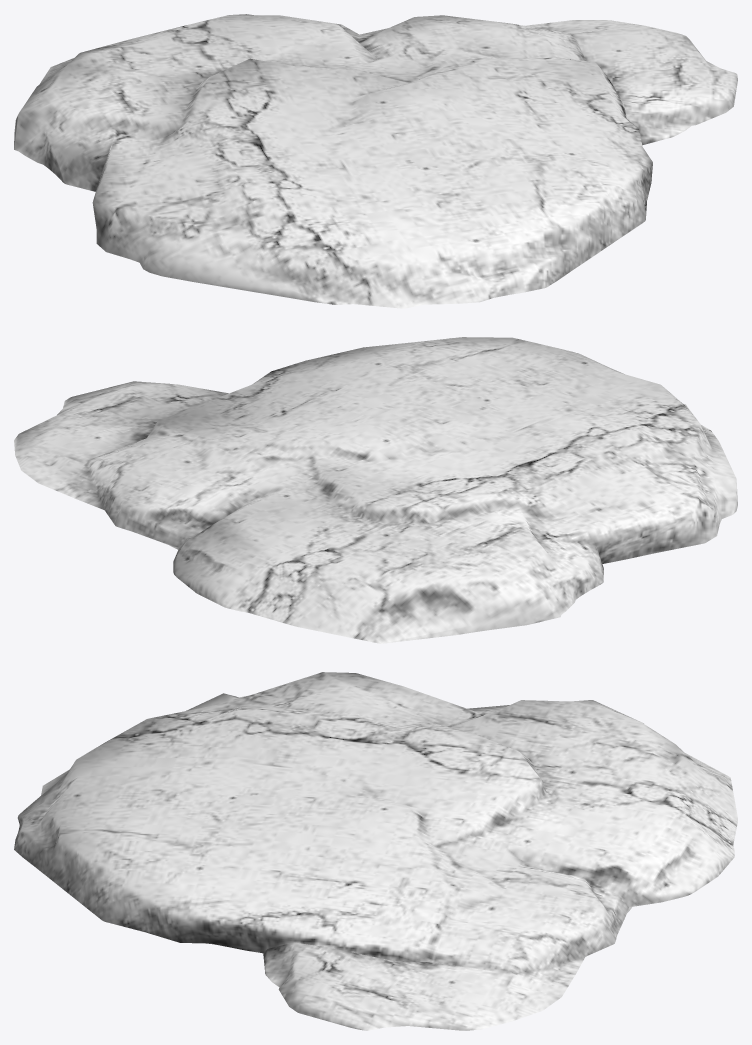
File: shan 1.FBX
3 renders of one model, top to bottom at view 1: azimuth 30°, elevation 25°; view 2: azimuth 150°, elevation 25°; view 3: azimuth 270°, elevation 25°, orthographic. The views are drawn at different scales.
Visible parts, largest first — view 1: polySurface931; view 2: polySurface931; view 3: polySurface931.
Boxes of the visible parts, <box> form: polySurface931: <box>14,14,737,308</box>; polySurface931: <box>14,337,737,643</box>; polySurface931: <box>14,672,737,1030</box>.
Bounding box in the file's own units: 3.95 × 0.3014 × 3.69.
